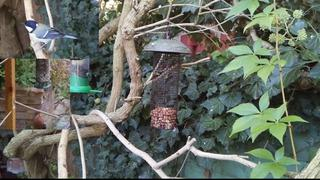great tit: (20, 20, 79, 53)
